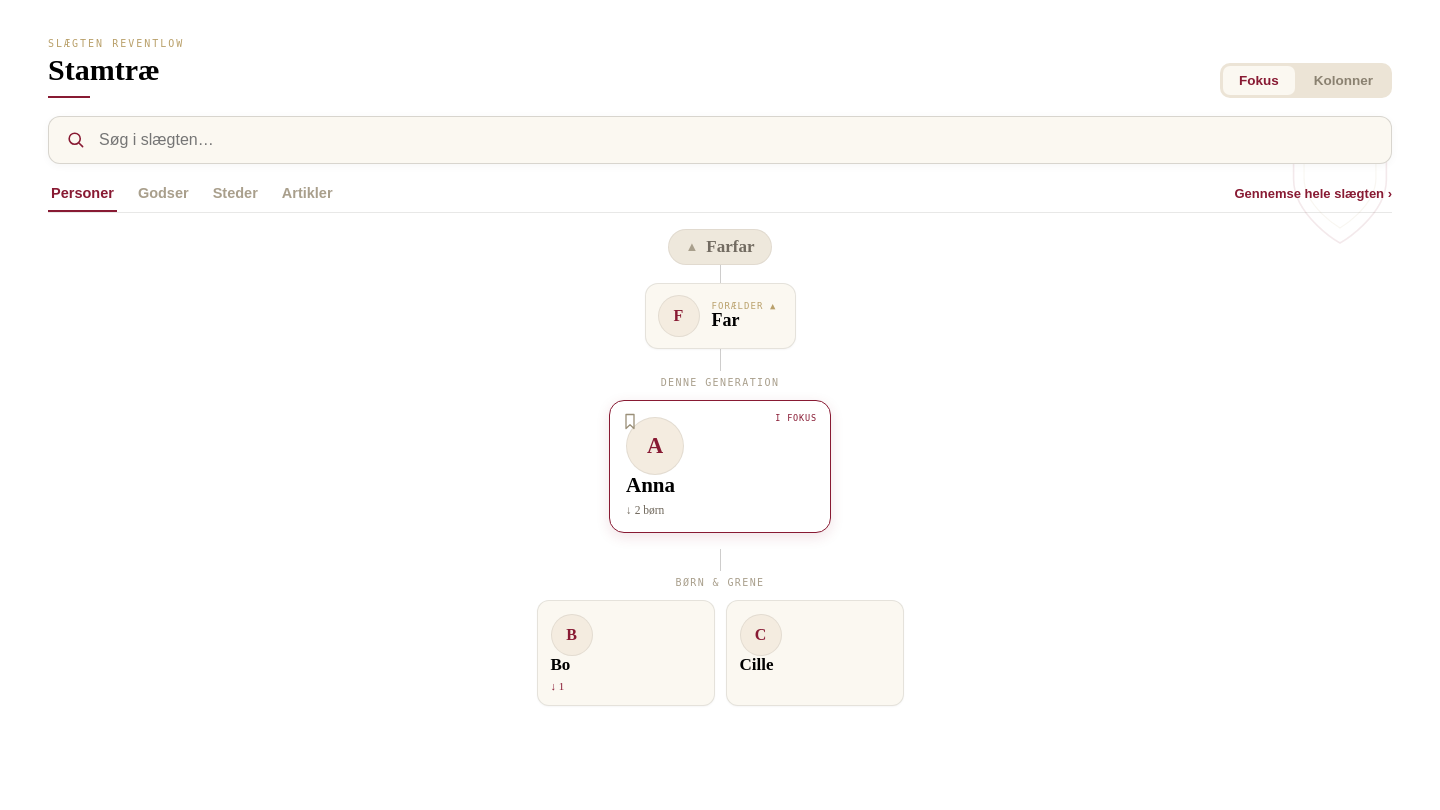
Test: TreeView › efterkommer-drill: vælg Bo → Børnebørn-kolonne
Click the text "Kolonner".
click(1343, 80)  # box [1314,72,1373,88]
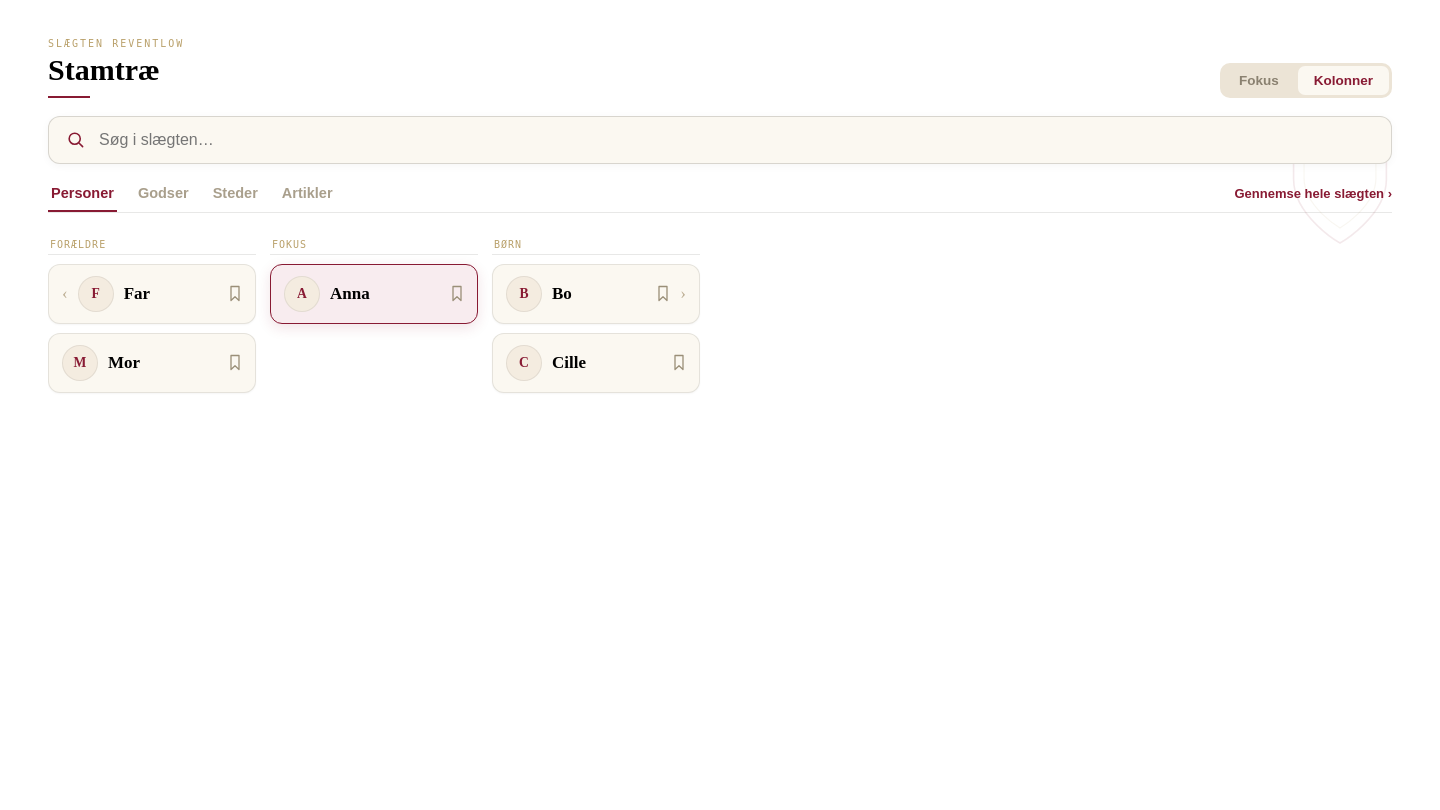
Click the link "Bo".
click(562, 293)  # box [552,284,572,302]
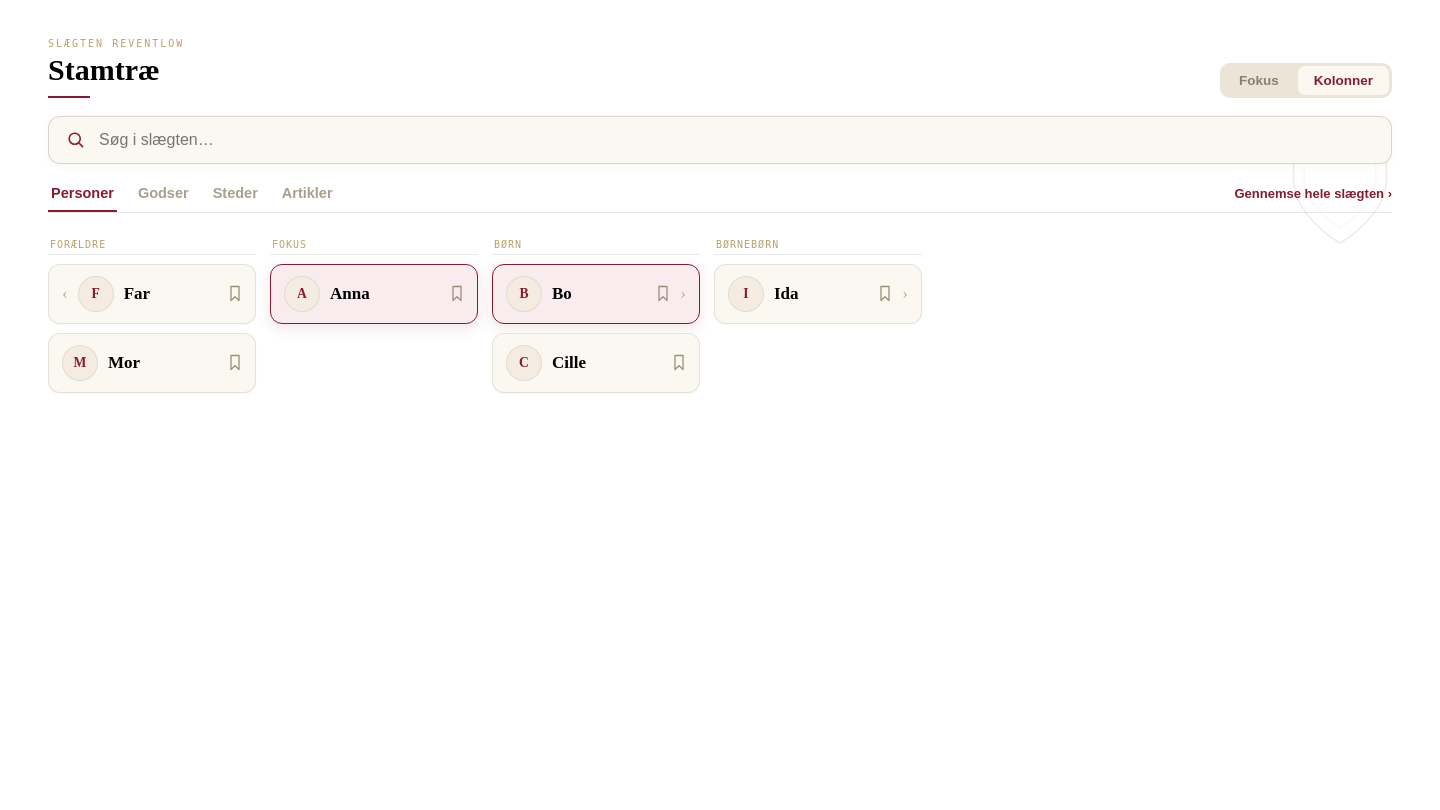
Check: the text "Børnebørn" is shown, box [714,238,922,254]
Check: the link "Ida" is shown, box [774,284,799,302]
